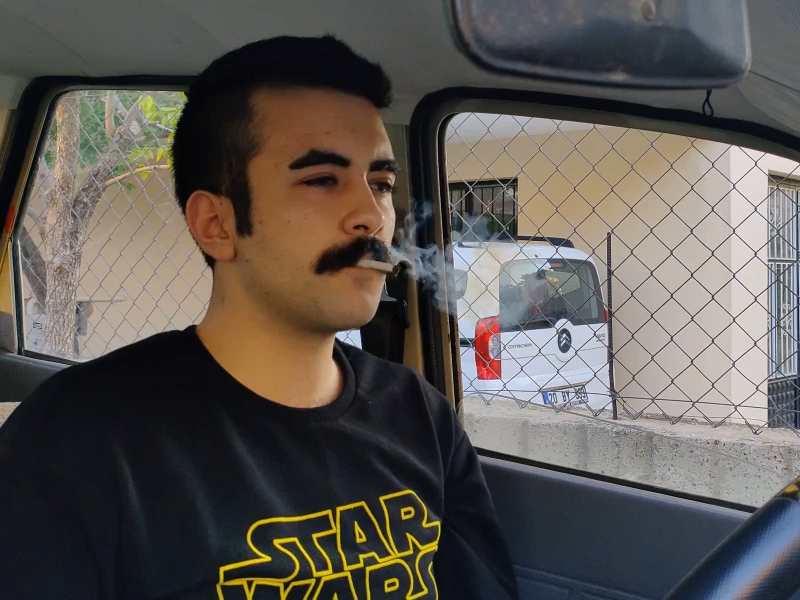sigara: (355, 257, 402, 278)
